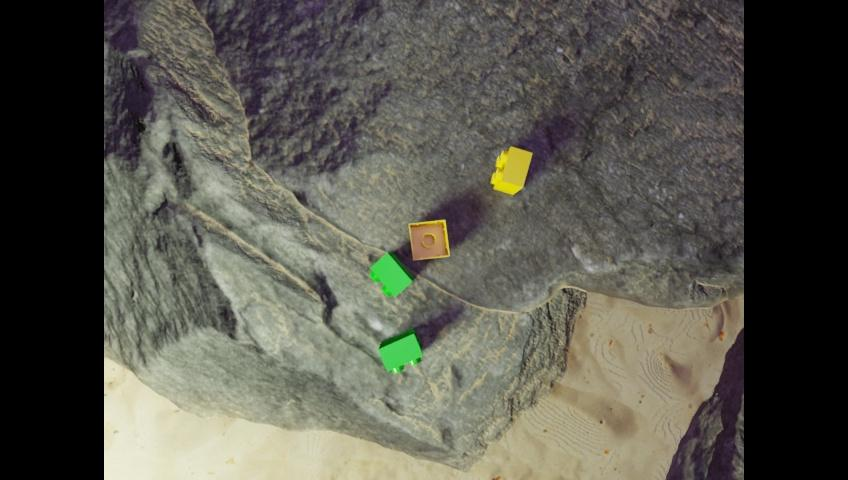2x2_green: (378, 327, 422, 373), (370, 251, 413, 296)
2x2_yellow: (490, 146, 535, 194), (409, 219, 450, 260)
